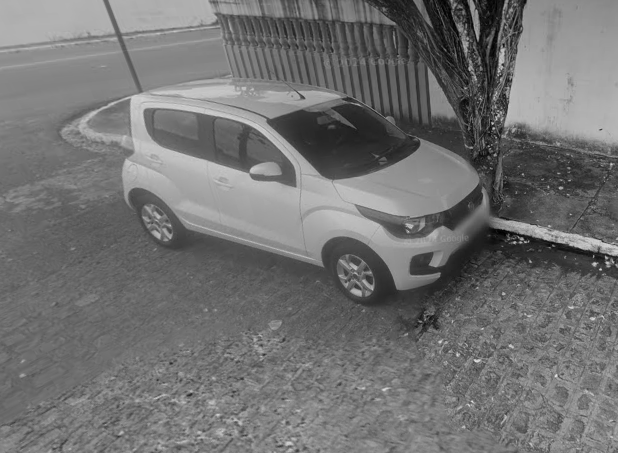car: (118, 68, 491, 309)
